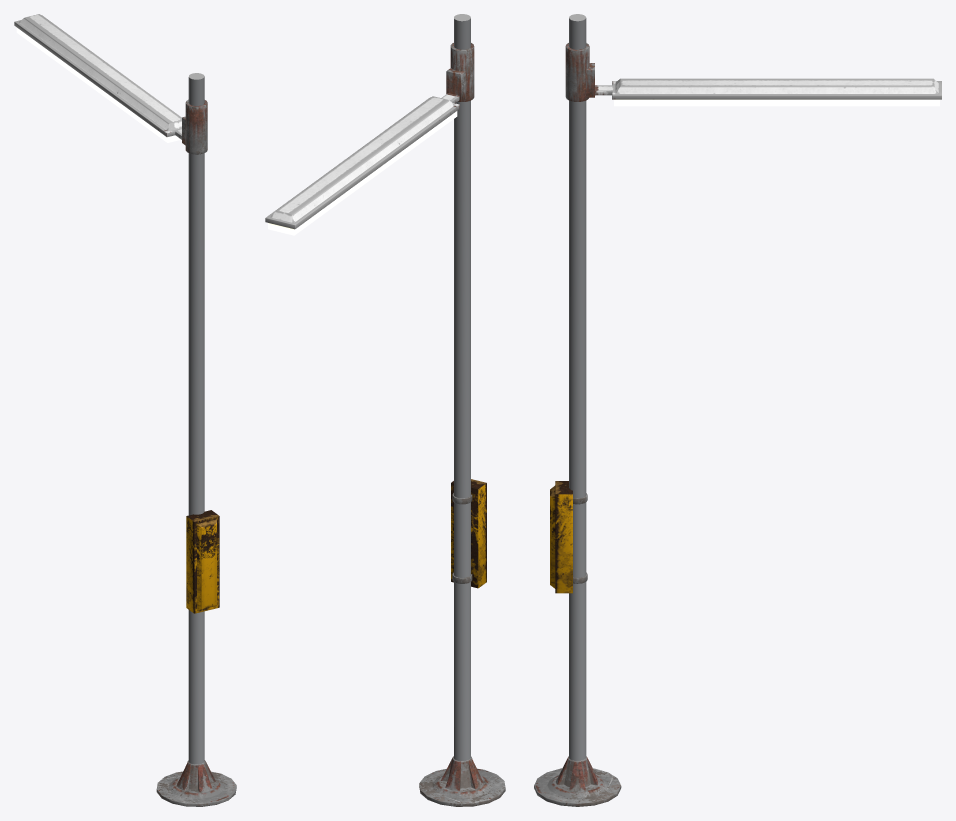
File: street_lamp.glb
The picture shows the model from 3 angles, left to right: view 1: azimuth 30°, elevation 25°; view 2: azimuth 150°, elevation 25°; view 3: azimuth 270°, elevation 25°; orthographic projection. The views are drawn at different scales.
Parts seen in each view (by area): view 1: Lamp; view 2: Lamp; view 3: Lamp.
Boxes of the visible parts, bbox=[...] form: Lamp: bbox=[14, 14, 236, 806]; Lamp: bbox=[265, 14, 505, 806]; Lamp: bbox=[534, 14, 941, 806].
Bounding box in the file's own units: 132 × 1290 × 618.
Materials: 1 (1 with a texture image).
